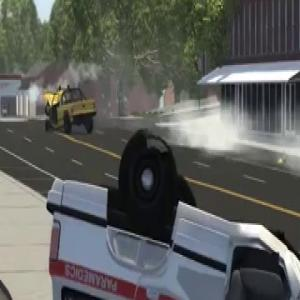serious: (40, 115, 300, 300)
